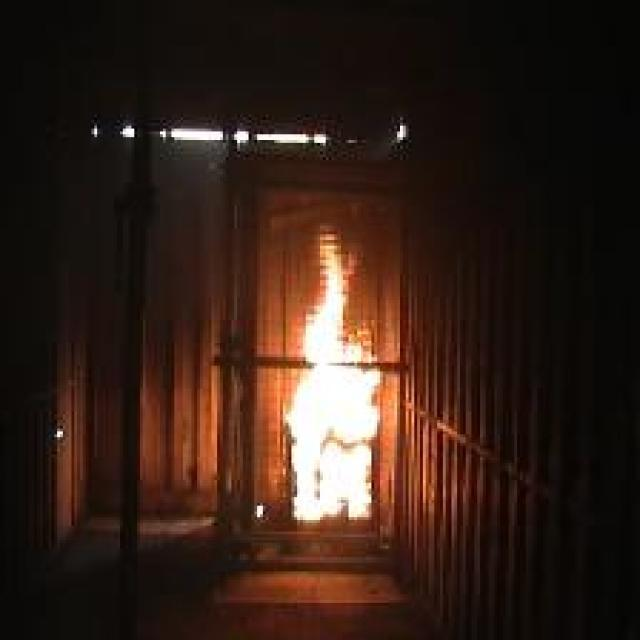Fire: (287, 232, 379, 518)
